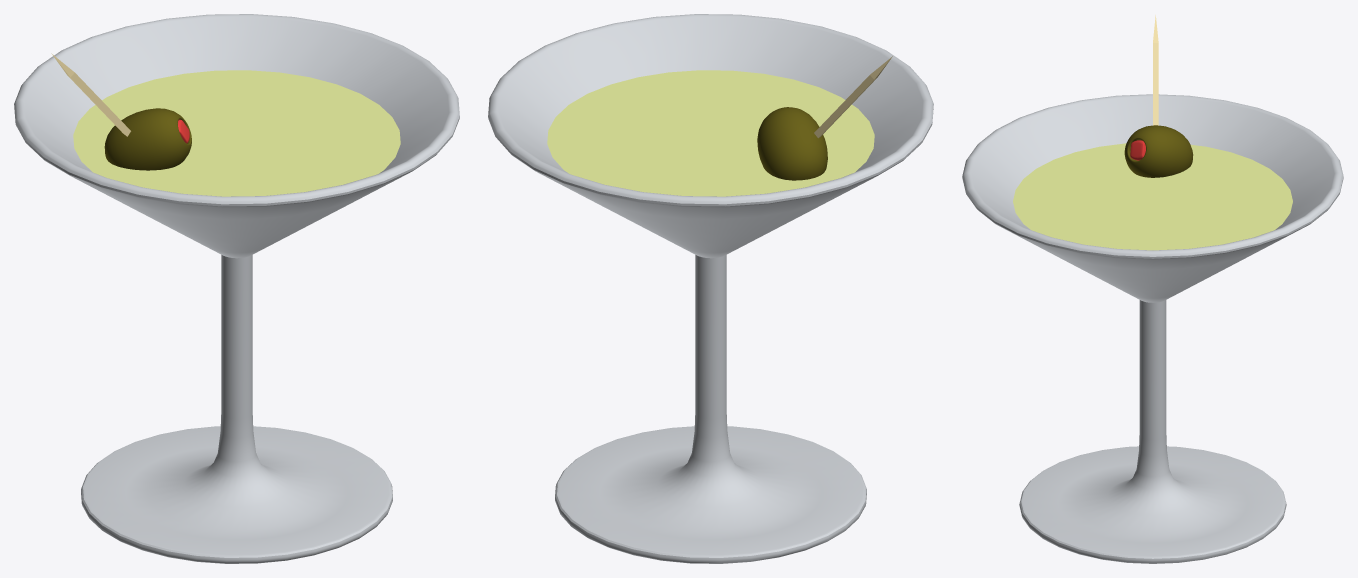
Rendered from cocktail_glass.glb.
3 views of the same model, side by side, from view 1: azimuth 30°, elevation 25°; view 2: azimuth 150°, elevation 25°; view 3: azimuth 270°, elevation 25° (orthographic). The views are drawn at different scales.
Visible parts, largest first — view 1: Circle.2278, Sphere.503, Cube.443; view 2: Circle.2278, Sphere.503, Cube.443; view 3: Circle.2278, Sphere.503, Cube.443.
Part boxes in pixels (x1,y1,x2,y2): Circle.2278: (14, 14, 459, 563); Sphere.503: (104, 108, 191, 170); Cube.443: (51, 53, 130, 136); Circle.2278: (488, 14, 933, 563); Sphere.503: (757, 107, 827, 180); Cube.443: (814, 56, 892, 138); Circle.2278: (962, 94, 1343, 563); Sphere.503: (1124, 125, 1193, 177); Cube.443: (1153, 15, 1158, 125).
Bounding box in the file's own units: 1.77 × 2.14 × 1.77.
2 materials, 1 textured.
